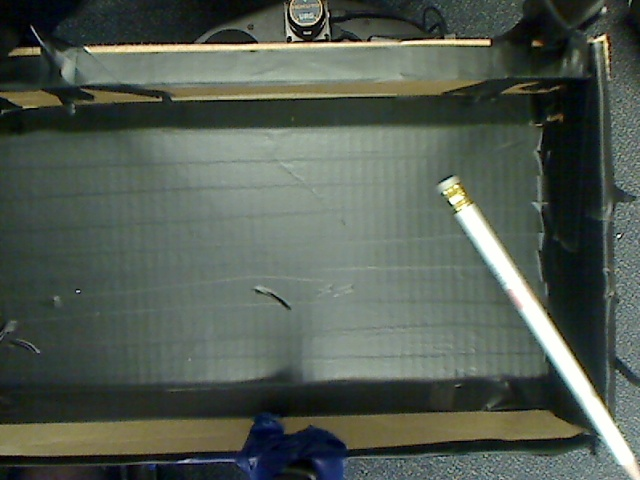pencil: (405, 156, 640, 474)
